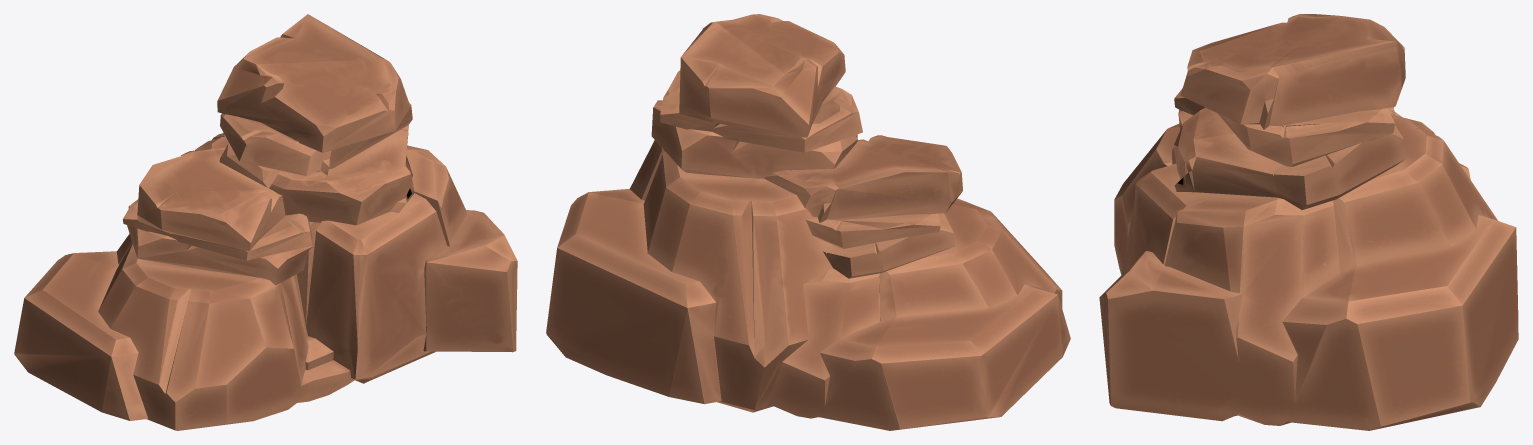
The model's file is big_rock_03.glb.
The picture shows the model from 3 angles, left to right: view 1: azimuth 30°, elevation 25°; view 2: azimuth 150°, elevation 25°; view 3: azimuth 270°, elevation 25°; orthographic projection. The views are drawn at different scales.
Visible parts, largest first — view 1: Cube.015_Big_rock_3_0; view 2: Cube.015_Big_rock_3_0; view 3: Cube.015_Big_rock_3_0.
Boxes of the visible parts, <box> form: Cube.015_Big_rock_3_0: <box>14,14,517,430</box>; Cube.015_Big_rock_3_0: <box>546,14,1070,430</box>; Cube.015_Big_rock_3_0: <box>1099,14,1518,430</box>.
Size of the model in its own units: 16.68 by 10.83 by 12.38.
Materials: 1 (1 with a texture image).
